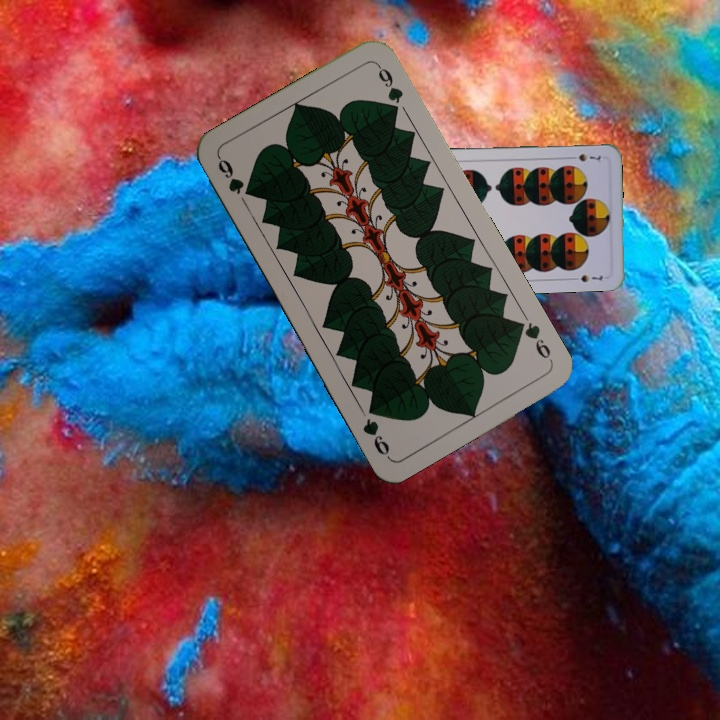G9: (511, 317, 555, 366), (213, 153, 247, 197)
S7: (565, 150, 603, 164)
